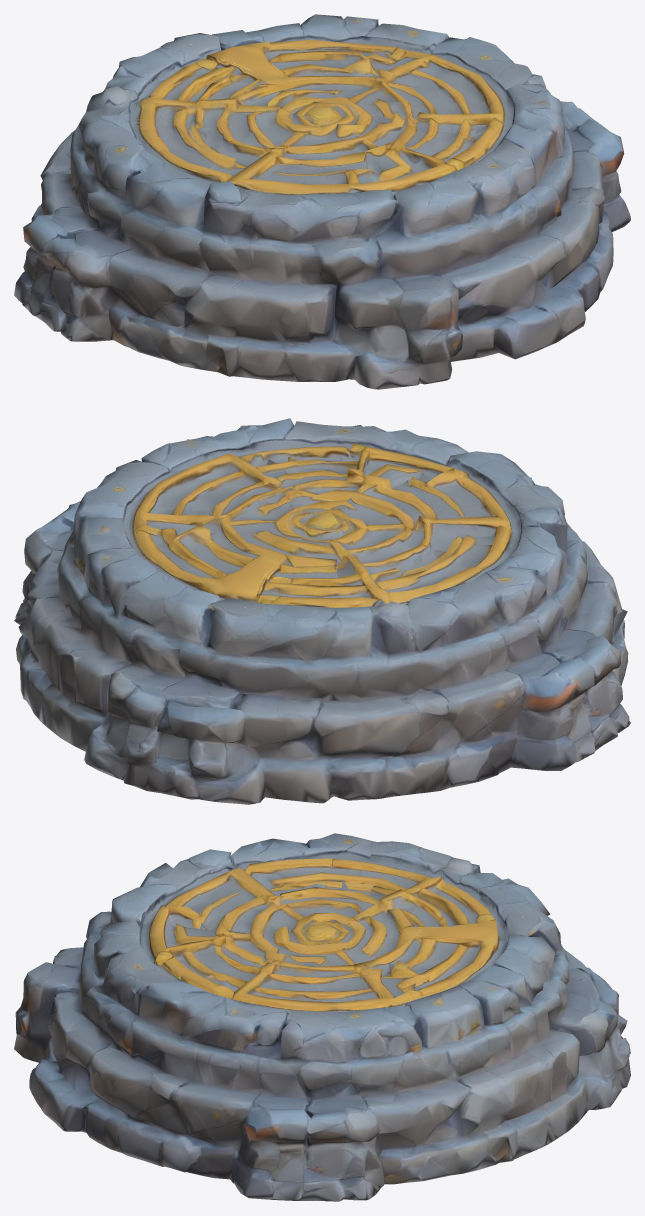
Rendered from moon-pedestal.glb.
3 renders of one model, top to bottom at view 1: azimuth 30°, elevation 25°; view 2: azimuth 150°, elevation 25°; view 3: azimuth 270°, elevation 25°, orthographic. The views are drawn at different scales.
Visible parts, largest first — view 1: tripo_node_a1283784-b5a9-4cc0-9328-3a28a0305841; view 2: tripo_node_a1283784-b5a9-4cc0-9328-3a28a0305841; view 3: tripo_node_a1283784-b5a9-4cc0-9328-3a28a0305841.
Boxes of the visible parts, left/top/right/bottom form: tripo_node_a1283784-b5a9-4cc0-9328-3a28a0305841: left=14, top=14, right=630, bottom=389; tripo_node_a1283784-b5a9-4cc0-9328-3a28a0305841: left=14, top=418, right=630, bottom=804; tripo_node_a1283784-b5a9-4cc0-9328-3a28a0305841: left=14, top=833, right=630, bottom=1201.
Bounding box in the file's own units: 11.31 × 3 × 11.31.
Materials: 1 (1 with a texture image).
